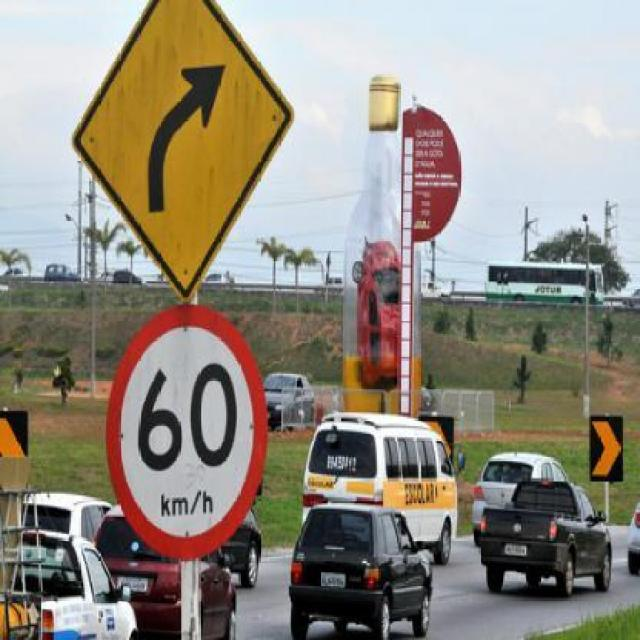Ograniczenie predkosci do 60: (106, 308, 268, 560)
